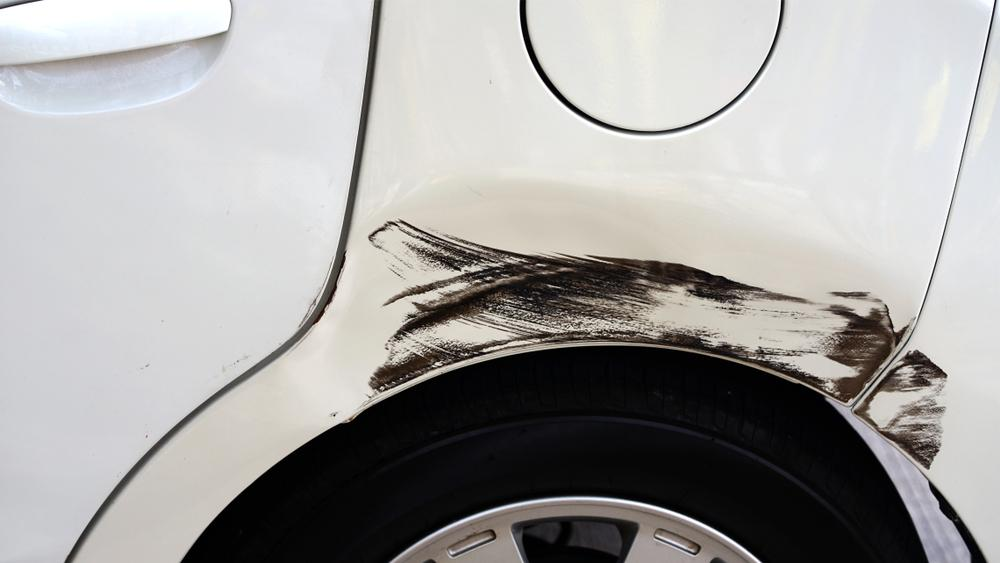scratch: (360, 210, 920, 404), (848, 346, 955, 471)
